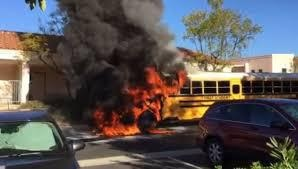fire: (92, 65, 195, 139)
